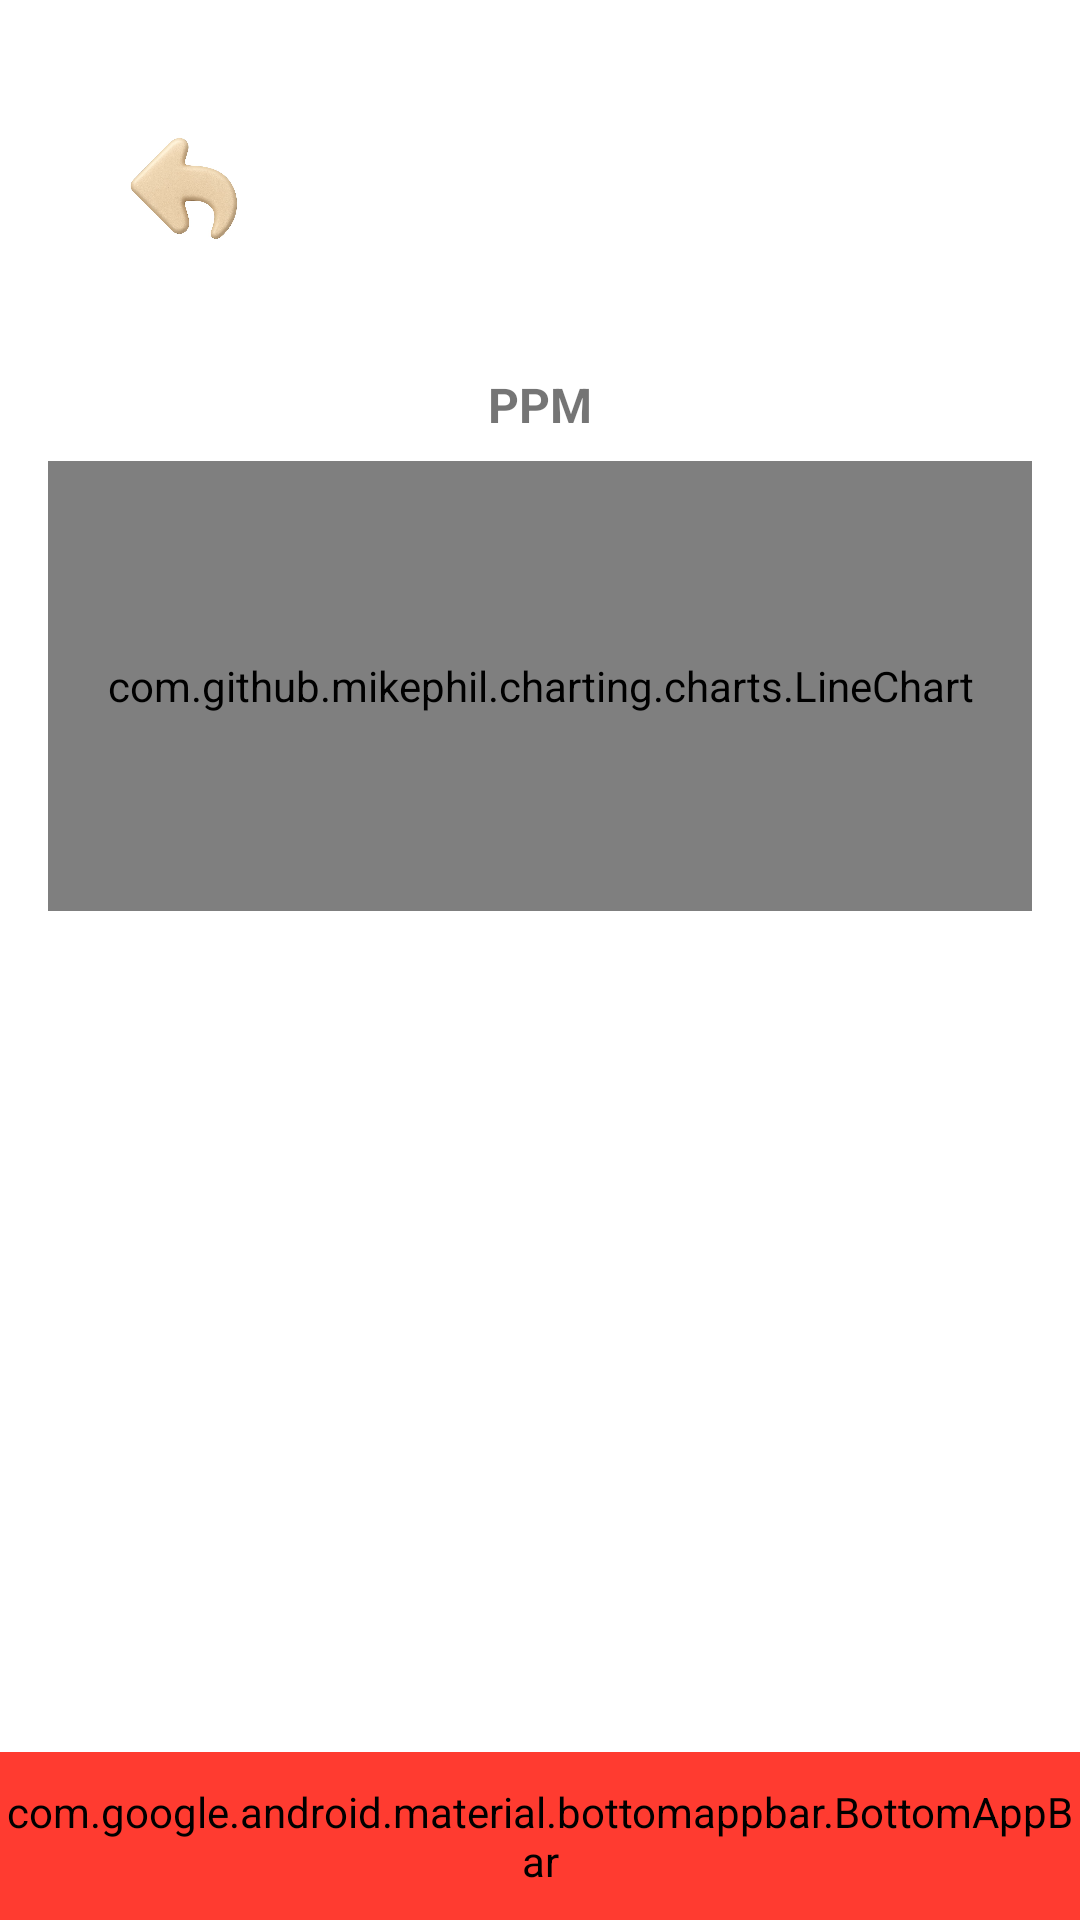

Icons on this 1080 x 1920 Android screen, each with the point to tap as (x,y):
Volver: (184,188)
